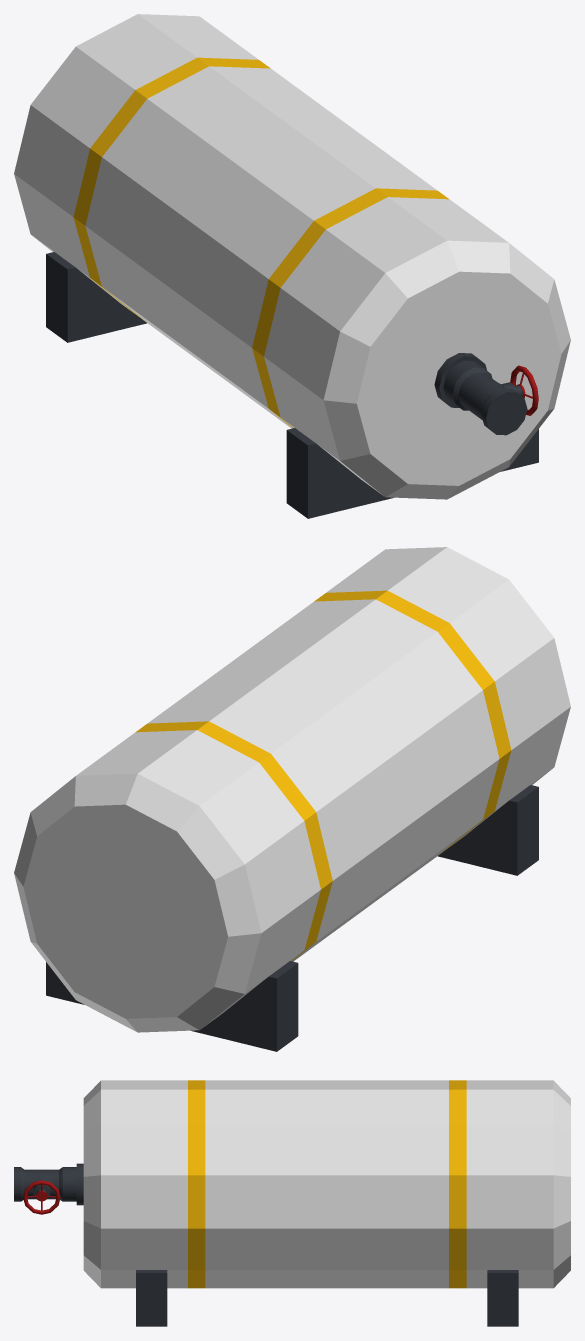
The model's file is Tank_Horizontal1.fbx.
3 views of the same model, one above another, from view 1: azimuth 30°, elevation 25°; view 2: azimuth 150°, elevation 25°; view 3: azimuth 270°, elevation 25° (orthographic). The views are drawn at different scales.
Visible parts, largest first — view 1: Tank_Horizontal1, Tank_Horizontal1_Support, Tank_Horizontal1_ValvePipe; view 2: Tank_Horizontal1, Tank_Horizontal1_Support; view 3: Tank_Horizontal1, Tank_Horizontal1_Support, Tank_Horizontal1_ValvePipe, Tank_Horizontal1_ValveWheel.
Boxes of the visible parts, x1,y1,x2,y2 form: Tank_Horizontal1: (14,14,570,499); Tank_Horizontal1_Support: (46,252,538,518); Tank_Horizontal1_ValvePipe: (448,364,527,435); Tank_Horizontal1: (14,547,570,1032); Tank_Horizontal1_Support: (46,785,538,1051); Tank_Horizontal1: (69,1080,570,1288); Tank_Horizontal1_Support: (136,1270,518,1326); Tank_Horizontal1_ValvePipe: (14,1167,69,1201); Tank_Horizontal1_ValveWheel: (23,1180,60,1214).
Size of the model in its own units: 300 by 310 by 800.
